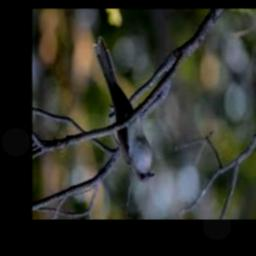Cuckoo: (93, 36, 155, 184)
